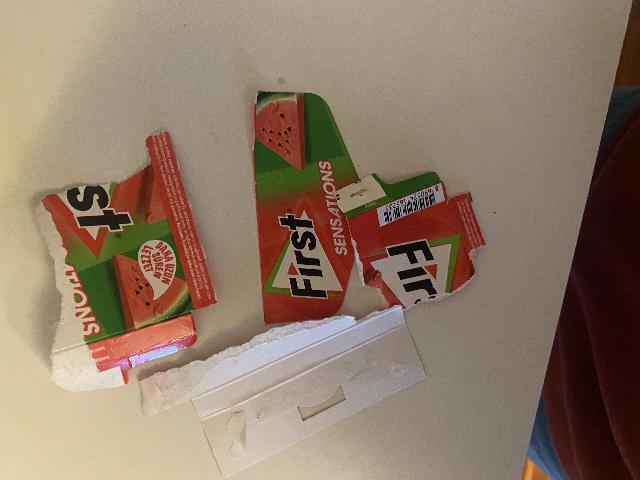Kagit: (19, 127, 216, 389), (119, 310, 454, 448), (246, 86, 378, 327), (332, 143, 503, 306)
